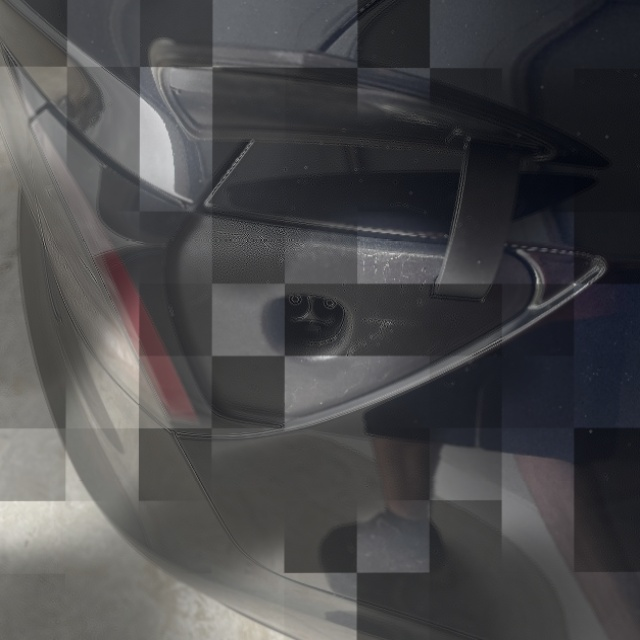port: (261, 293, 353, 362)
